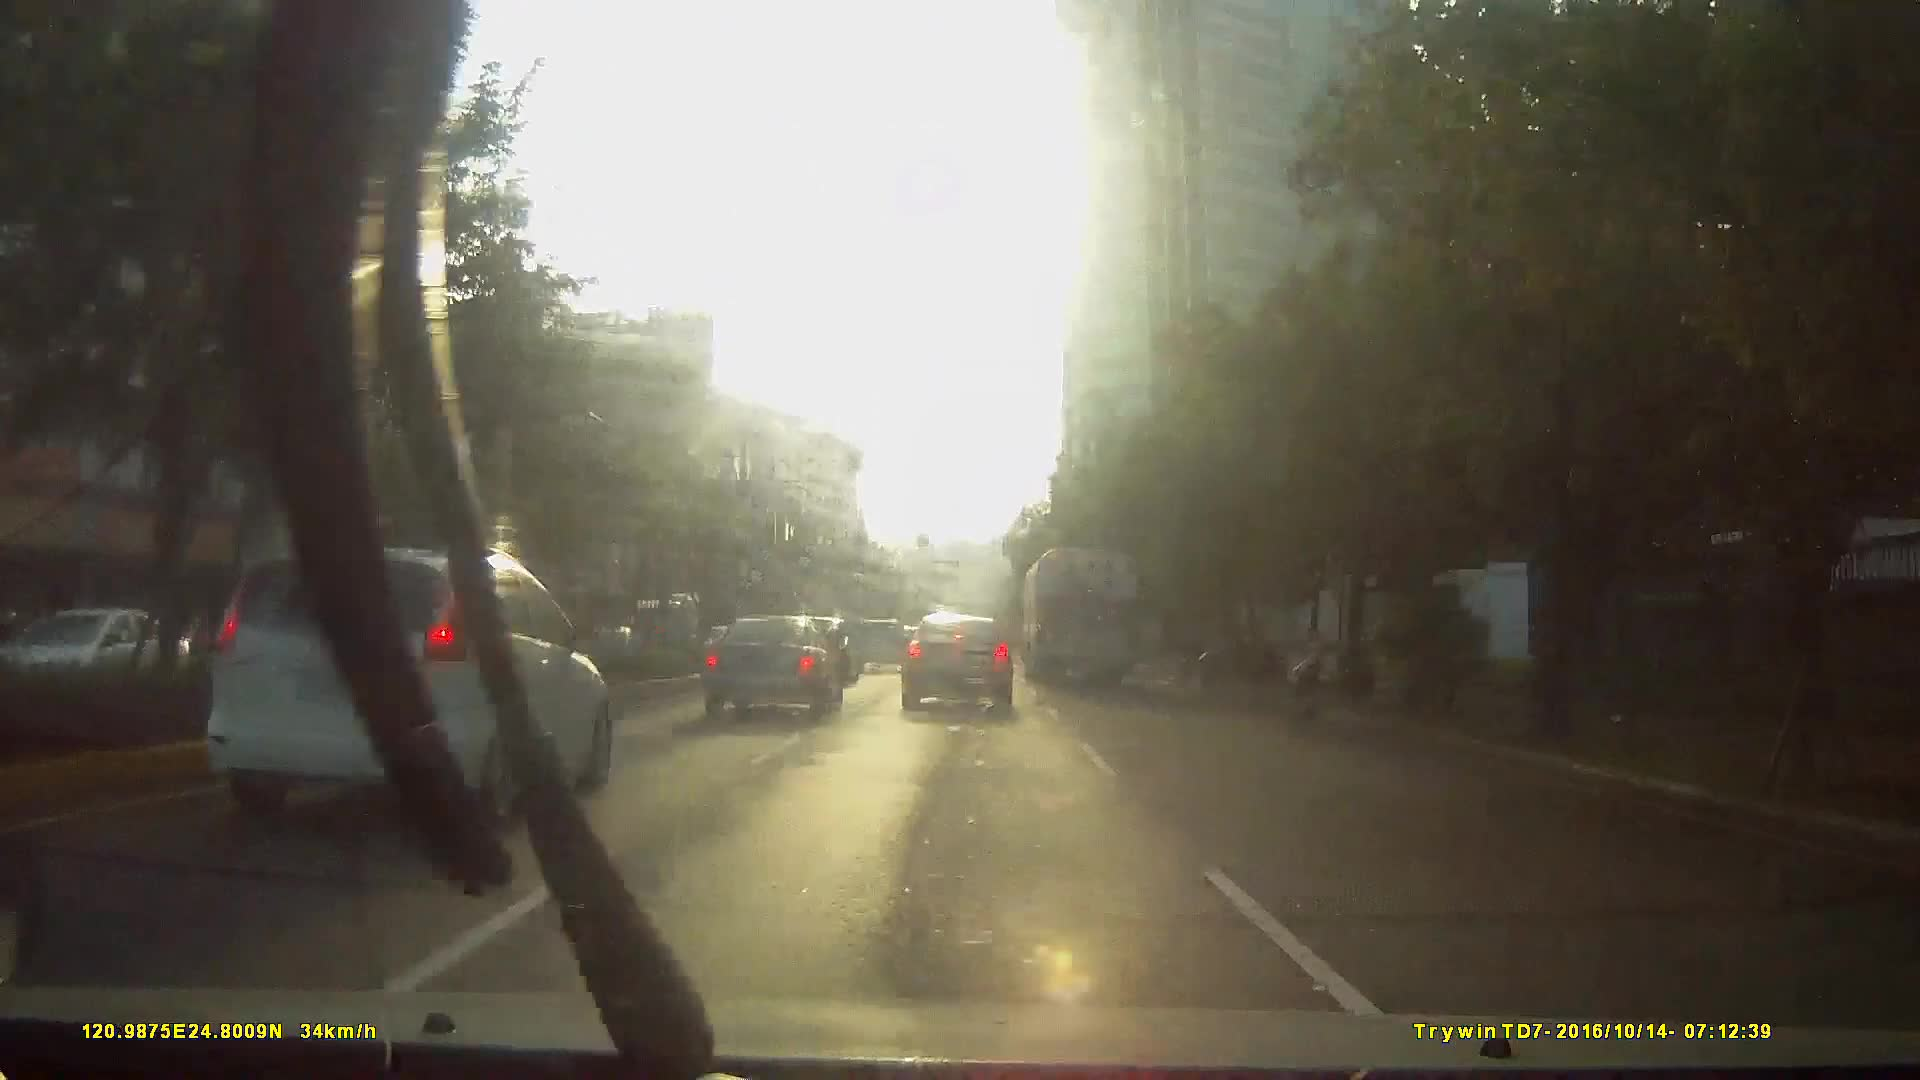vehicle: (251, 556, 684, 868), (179, 538, 625, 839), (1018, 545, 1139, 691), (694, 615, 843, 723), (897, 608, 1015, 719), (615, 591, 694, 665), (848, 616, 909, 676)
